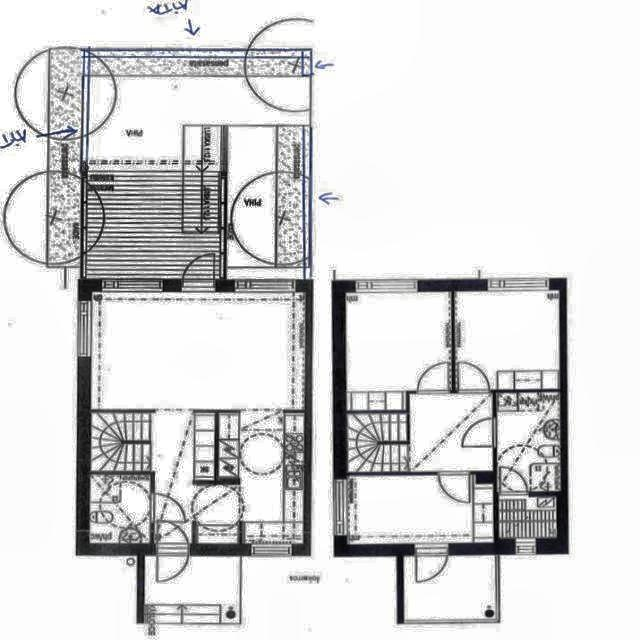room: (91, 292, 306, 410), (345, 291, 452, 411), (347, 392, 493, 472), (455, 290, 560, 391), (347, 474, 494, 544), (496, 392, 561, 492), (90, 475, 150, 543), (499, 496, 557, 539)
